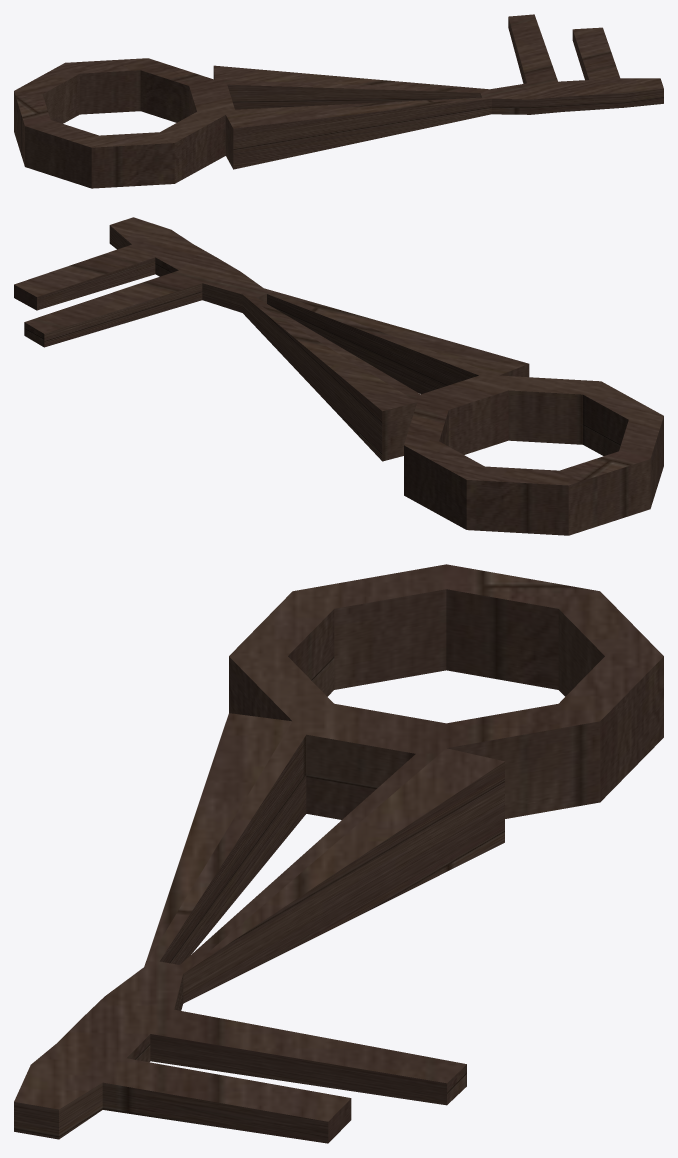
File: Key.fbx
The picture shows the model from 3 angles, top to bottom: view 1: azimuth 30°, elevation 25°; view 2: azimuth 150°, elevation 25°; view 3: azimuth 270°, elevation 25°; orthographic projection. The views are drawn at different scales.
Visible parts, largest first — view 1: pCylinder10; view 2: pCylinder10; view 3: pCylinder10.
Boxes of the visible parts, x1=… form: pCylinder10: x1=14, y1=14, x2=663, y2=188; pCylinder10: x1=14, y1=217, x2=663, y2=535; pCylinder10: x1=14, y1=564, x2=663, y2=1143.
Size of the model in its own units: 5.77 by 0.4117 by 2.99.
